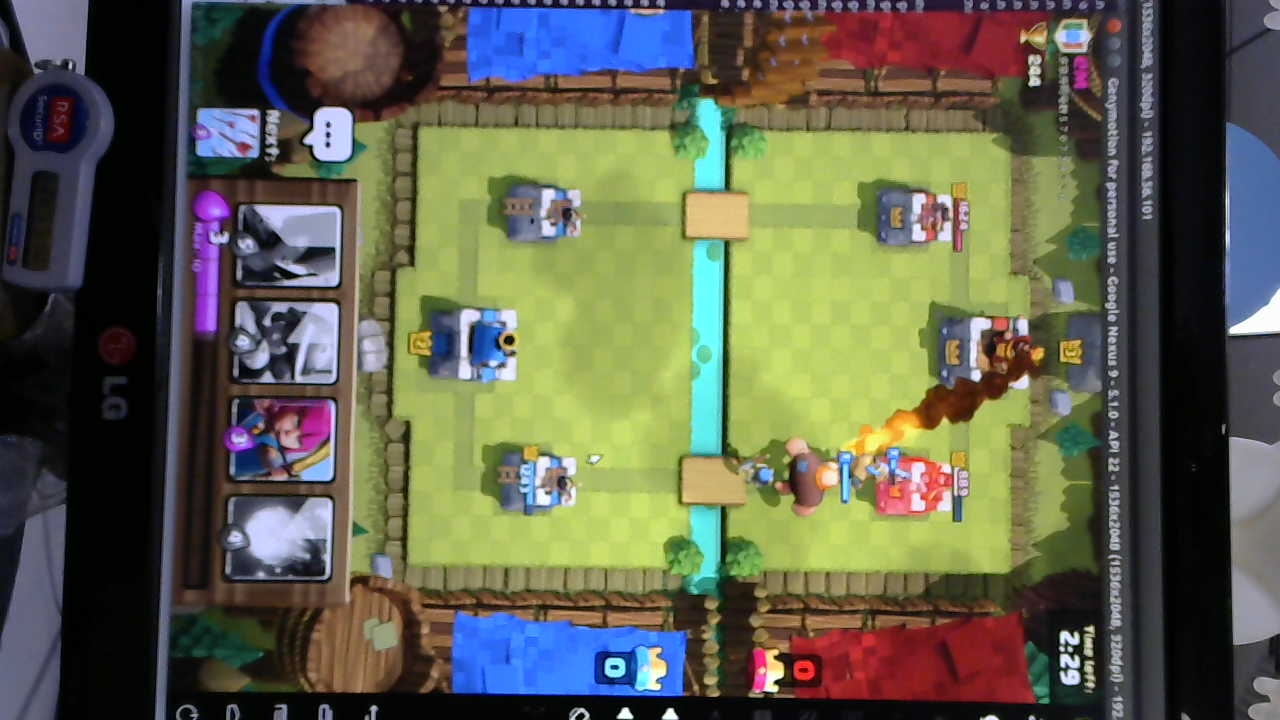arena: (504, 181, 585, 249), (499, 448, 583, 511)
bomb: (736, 457, 772, 489)
earena: (866, 455, 952, 521), (869, 185, 955, 249)
eking: (932, 310, 1040, 394)
giant: (777, 425, 837, 513)
king: (440, 306, 525, 384)
prince: (842, 452, 903, 496)
